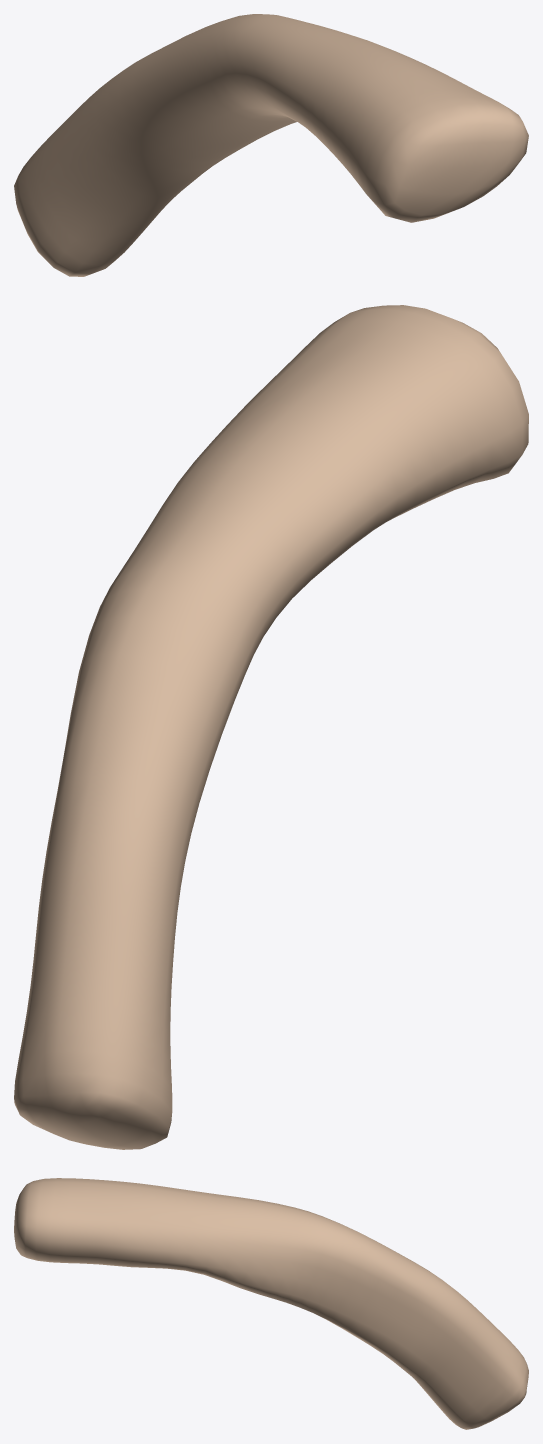
The picture shows the model from 3 angles, top to bottom: view 1: azimuth 30°, elevation 25°; view 2: azimuth 150°, elevation 25°; view 3: azimuth 270°, elevation 25°; orthographic projection. The views are drawn at different scales.
Parts seen in each view (by area): view 1: 右侧腓骨肌总腱鞘; view 2: 右侧腓骨肌总腱鞘; view 3: 右侧腓骨肌总腱鞘.
Part boxes in pixels (x1,y1,x2,y2): 右侧腓骨肌总腱鞘: (14,14,528,276); 右侧腓骨肌总腱鞘: (14,305,528,1149); 右侧腓骨肌总腱鞘: (14,1178,528,1429).
Size of the model in its own units: 0.0197 by 0.0356 by 0.0631.
